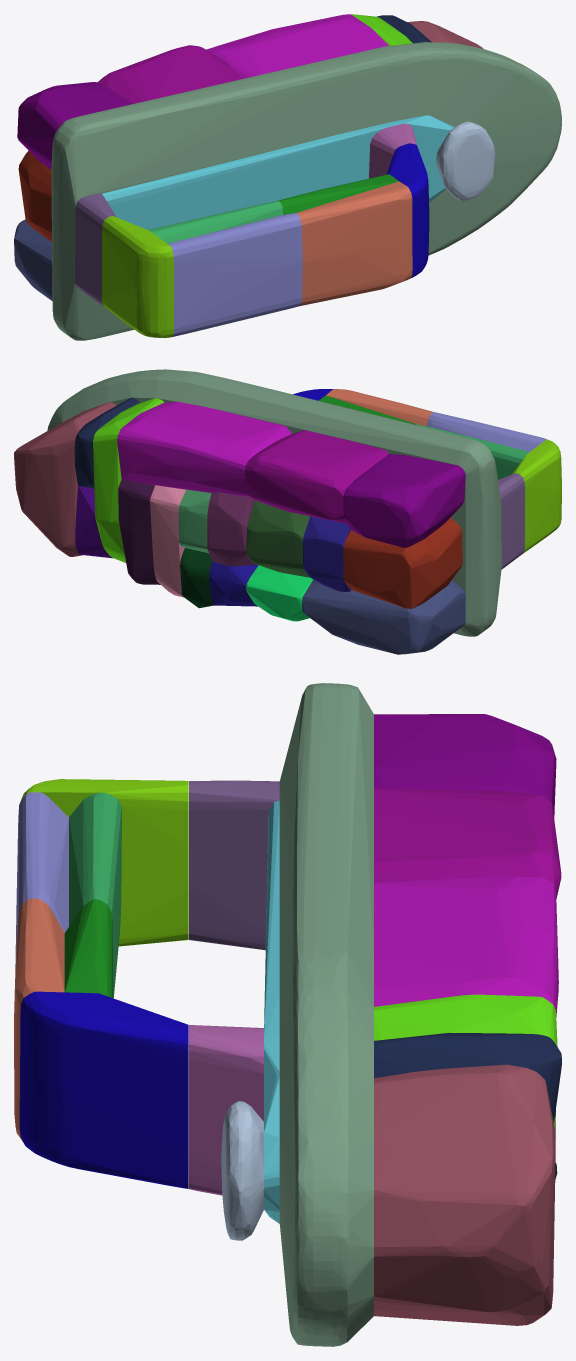
File: coacd_collision.obj
3 views of the same model, one above another, from view 1: azimuth 30°, elevation 25°; view 2: azimuth 150°, elevation 25°; view 3: azimuth 270°, elevation 25° (orthographic). The views are drawn at different scales.
Parts seen in each view (by area): view 1: geometry_0, geometry_2, geometry_12, geometry_9, geometry_4, geometry_22, geometry_14, geometry_11, geometry_6, geometry_1, geometry_5, geometry_10 (+7 smaller); view 2: geometry_0, geometry_22, geometry_11, geometry_14, geometry_16, geometry_15, geometry_13, geometry_17, geometry_19, geometry_4, geometry_26, geometry_24 (+13 smaller); view 3: geometry_0, geometry_13, geometry_5, geometry_22, geometry_14, geometry_1, geometry_11, geometry_4, geometry_7, geometry_21, geometry_17, geometry_10 (+5 smaller).
Boxes of the visible parts, left/top/right/bottom form: geometry_0: left=51, top=42, right=561, bottom=340; geometry_2: left=102, top=115, right=454, bottom=229; geometry_12: left=167, top=213, right=302, bottom=336; geometry_9: left=296, top=181, right=412, bottom=305; geometry_4: left=102, top=216, right=173, bottom=337; geometry_22: left=206, top=14, right=388, bottom=78; geometry_14: left=97, top=45, right=242, bottom=104; geometry_11: left=17, top=82, right=131, bottom=169; geometry_6: left=436, top=121, right=495, bottom=200; geometry_1: left=75, top=193, right=116, bottom=306; geometry_5: left=387, top=143, right=429, bottom=277; geometry_10: left=148, top=200, right=283, bottom=243; geometry_0: left=47, top=369, right=501, bottom=636; geometry_22: left=117, top=402, right=291, bottom=496; geometry_11: left=343, top=454, right=465, bottom=547; geometry_14: left=245, top=430, right=388, bottom=523; geometry_16: left=302, top=579, right=465, bottom=654; geometry_15: left=343, top=517, right=462, bottom=608; geometry_13: left=14, top=402, right=116, bottom=556; geometry_17: left=93, top=398, right=164, bottom=562; geometry_19: left=246, top=500, right=309, bottom=577; geometry_4: left=512, top=439, right=561, bottom=553; geometry_26: left=118, top=479, right=160, bottom=584; geometry_24: left=150, top=485, right=185, bottom=597; geometry_0: left=279, top=683, right=373, bottom=1346; geometry_13: left=374, top=1064, right=555, bottom=1325; geometry_5: left=19, top=991, right=188, bottom=1188; geometry_22: left=374, top=876, right=558, bottom=1016; geometry_14: left=374, top=788, right=561, bottom=898; geometry_1: left=189, top=780, right=279, bottom=950; geometry_11: left=374, top=714, right=556, bottom=818; geometry_4: left=19, top=779, right=188, bottom=946; geometry_7: left=189, top=1025, right=263, bottom=1195; geometry_21: left=374, top=1032, right=561, bottom=1123; geometry_17: left=374, top=994, right=557, bottom=1129; geometry_10: left=69, top=792, right=121, bottom=998.
Bounding box in the file's own units: 137 × 56.62 × 76.4.
